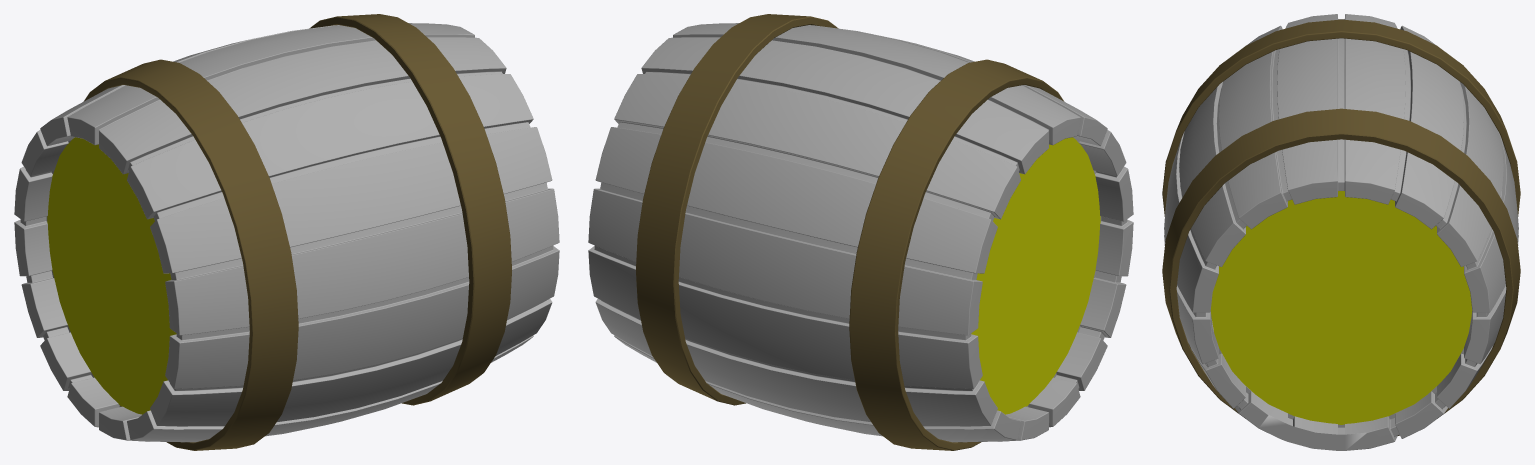
Rendered from Barrel.fbx.
3 renders of one model, left to right at view 1: azimuth 30°, elevation 25°; view 2: azimuth 150°, elevation 25°; view 3: azimuth 270°, elevation 25°, orthographic. The views are drawn at different scales.
Visible parts, largest first — view 1: Barrel_Prefab; view 2: Barrel_Prefab; view 3: Barrel_Prefab.
Part boxes in pixels (x1,y1,x2,y2): Barrel_Prefab: (14,14,559,450); Barrel_Prefab: (588,14,1133,450); Barrel_Prefab: (1162,14,1520,450).
Bounding box in the file's own units: 0.00756 × 0.00686 × 0.00686.
